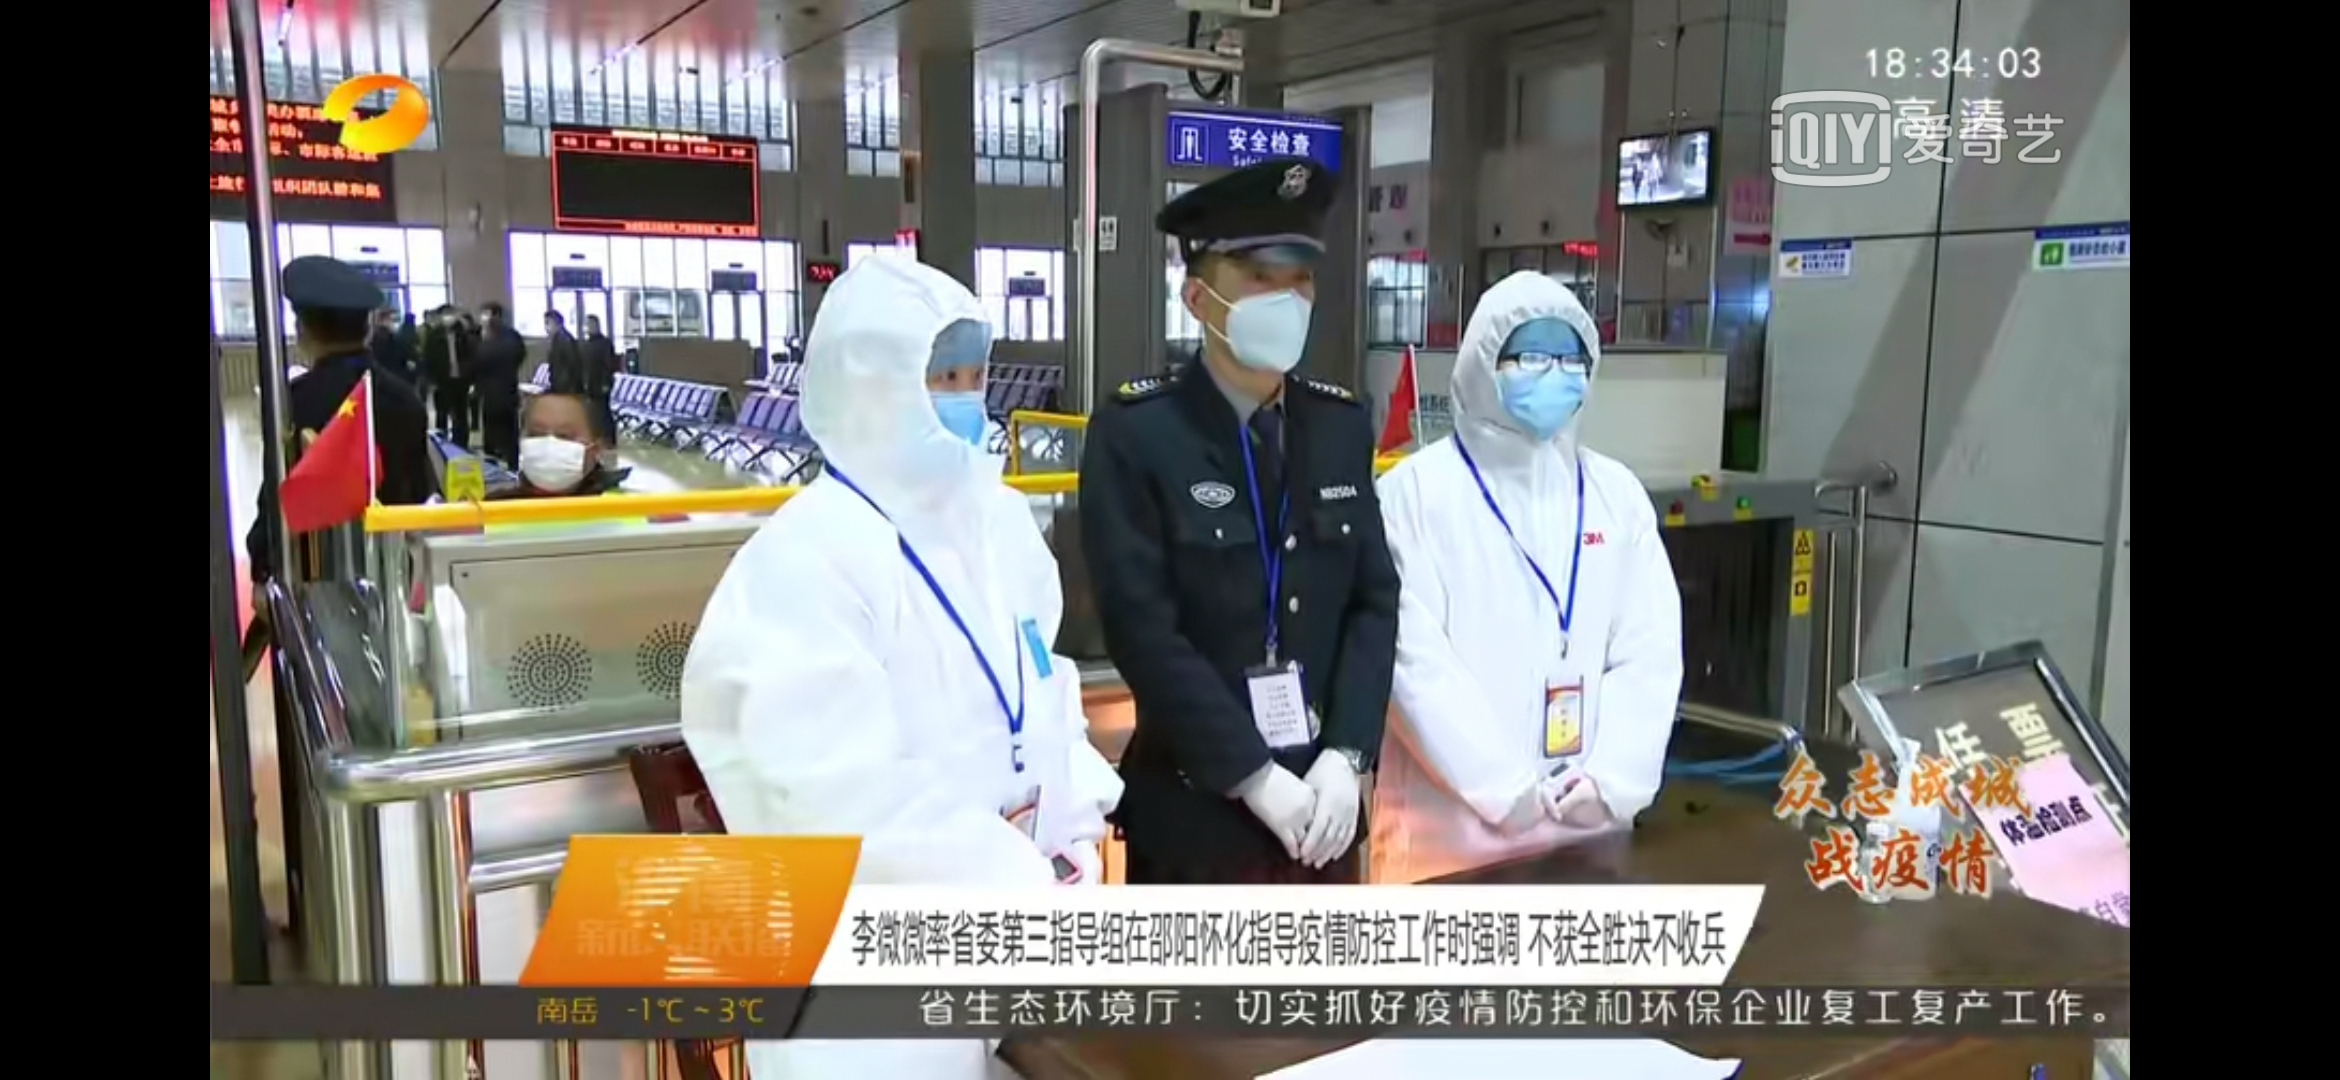correctlyWear: (1180, 251, 1315, 377), (1495, 321, 1595, 434), (925, 313, 1010, 445), (516, 419, 600, 491)
